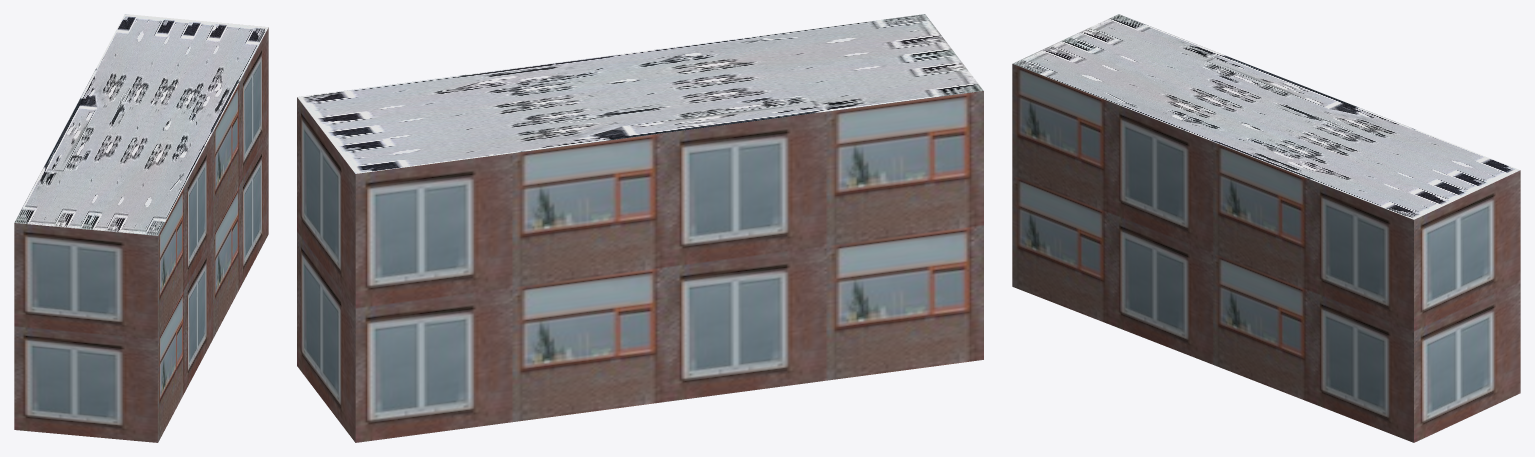
File: ResTex__459.fbx
3 views of the same model, side by side, from view 1: azimuth 30°, elevation 25°; view 2: azimuth 150°, elevation 25°; view 3: azimuth 270°, elevation 25° (orthographic). The views are drawn at different scales.
Visible parts, largest first — view 1: CityEngineMaterial_19_m, CityEngineMaterial_15_m; view 2: CityEngineMaterial_19_m, CityEngineMaterial_15_m; view 3: CityEngineMaterial_19_m, CityEngineMaterial_15_m.
Boxes of the visible parts, x1,y1,x2,y2 form: CityEngineMaterial_19_m: [14, 28, 268, 442]; CityEngineMaterial_15_m: [14, 14, 268, 235]; CityEngineMaterial_19_m: [297, 91, 983, 442]; CityEngineMaterial_15_m: [297, 14, 983, 173]; CityEngineMaterial_19_m: [1012, 64, 1520, 442]; CityEngineMaterial_15_m: [1013, 14, 1519, 219].
Size of the model in its own units: 11.88 by 6 by 12.39.
2 materials, 2 textured.
